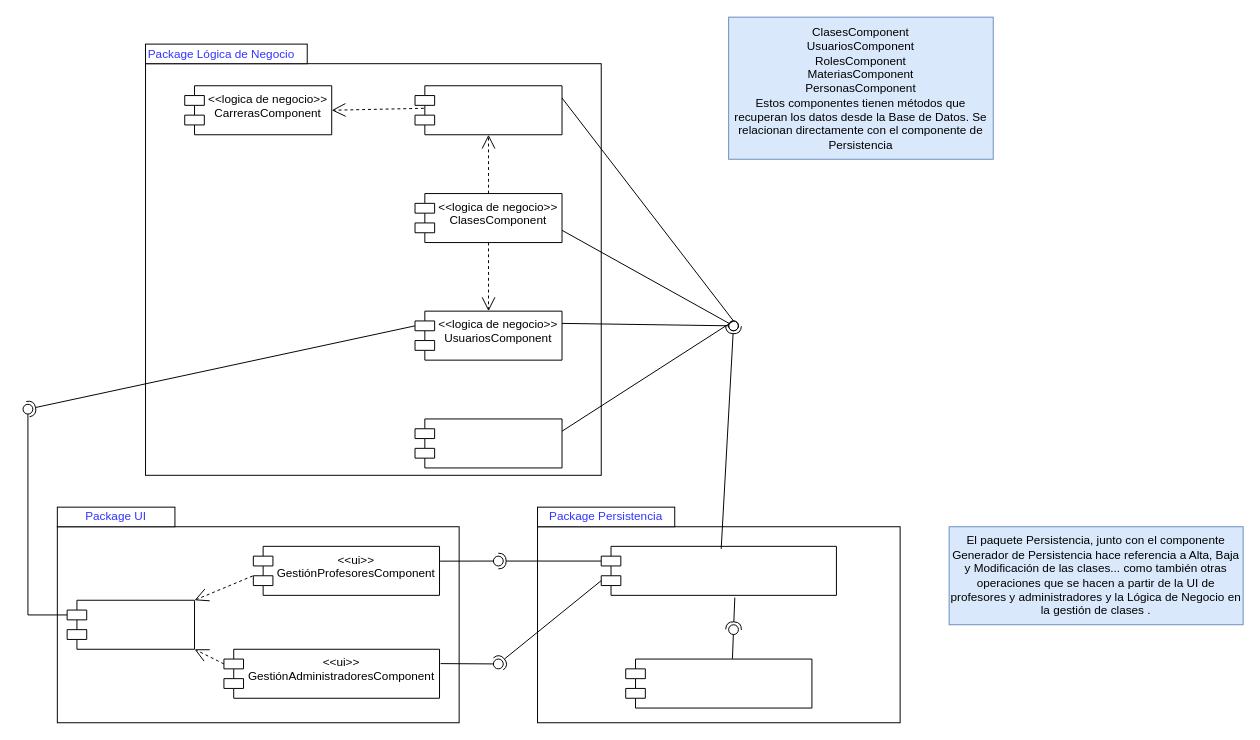
Image size: 1260x740. Some labels were removed from this diagram. Here are the shapes that lost their labels. From the top down, the box of each, then its label:
(414, 85, 562, 135): <<logica de negocio>> MateriasComponent
(414, 418, 562, 468): <<logica de negocio>> RolesComponent
(600, 545, 836, 595): <<persistencia>> GeneradorPersistenciaComponent
(66, 599, 195, 649): <<ui>> AuthComponent
(625, 658, 812, 708): <<persistencia>> SGBDComponent
